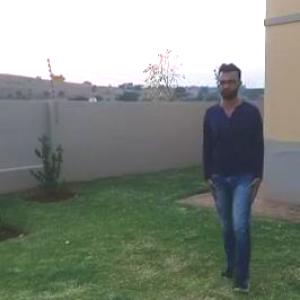follow: (203, 66, 268, 257)
